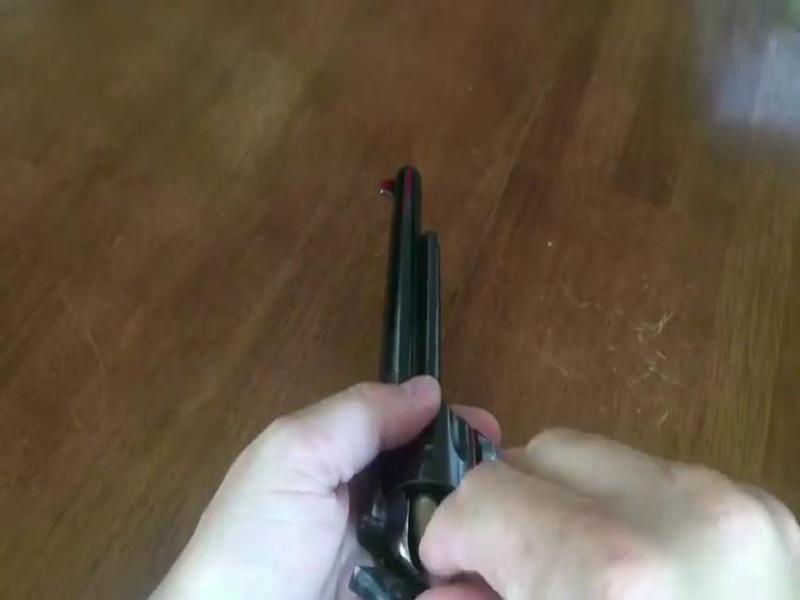Revolver: (307, 140, 548, 600)
